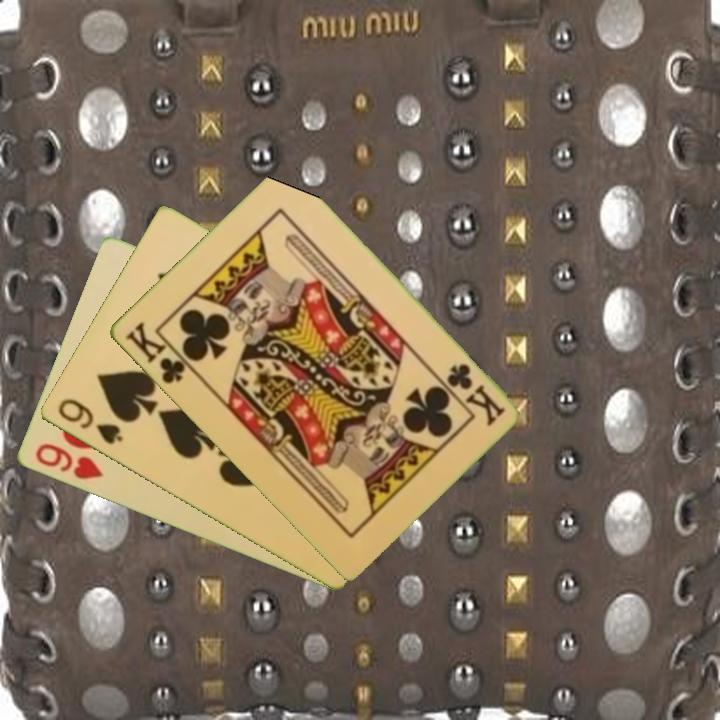9h: (31, 440, 106, 483)
9s: (53, 395, 125, 448)
Kc: (120, 318, 196, 387), (442, 360, 508, 428)
